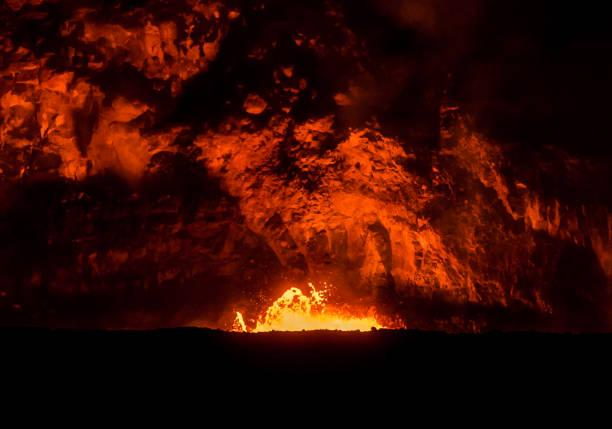Fire: (252, 282, 380, 330)
